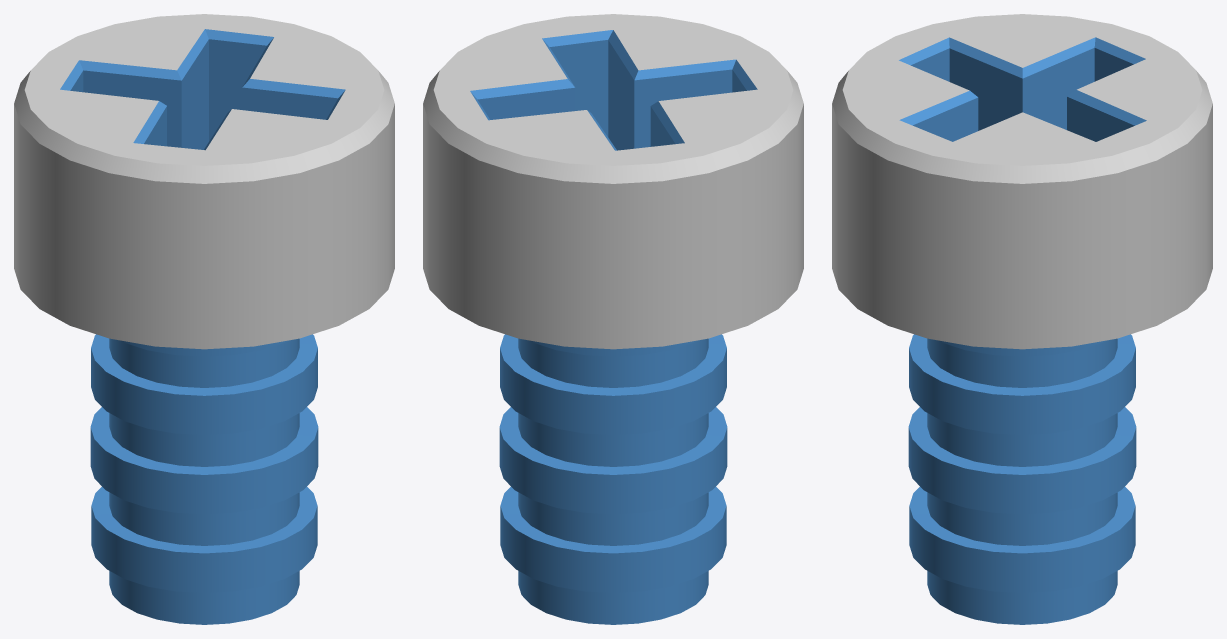
3 renders of one model, left to right at view 1: azimuth 30°, elevation 25°; view 2: azimuth 150°, elevation 25°; view 3: azimuth 270°, elevation 25°, orthographic.
Parts seen in each view (by area): view 1: Joint_0_Object_0; view 2: Joint_0_Object_0; view 3: Joint_0_Object_0.
Boxes of the visible parts, box(x1,y1,x2,y2) form: Joint_0_Object_0: box(14, 14, 394, 624); Joint_0_Object_0: box(423, 14, 803, 624); Joint_0_Object_0: box(832, 14, 1212, 624).
Bounding box in the file's own units: 52.8 × 75.69 × 52.8.
